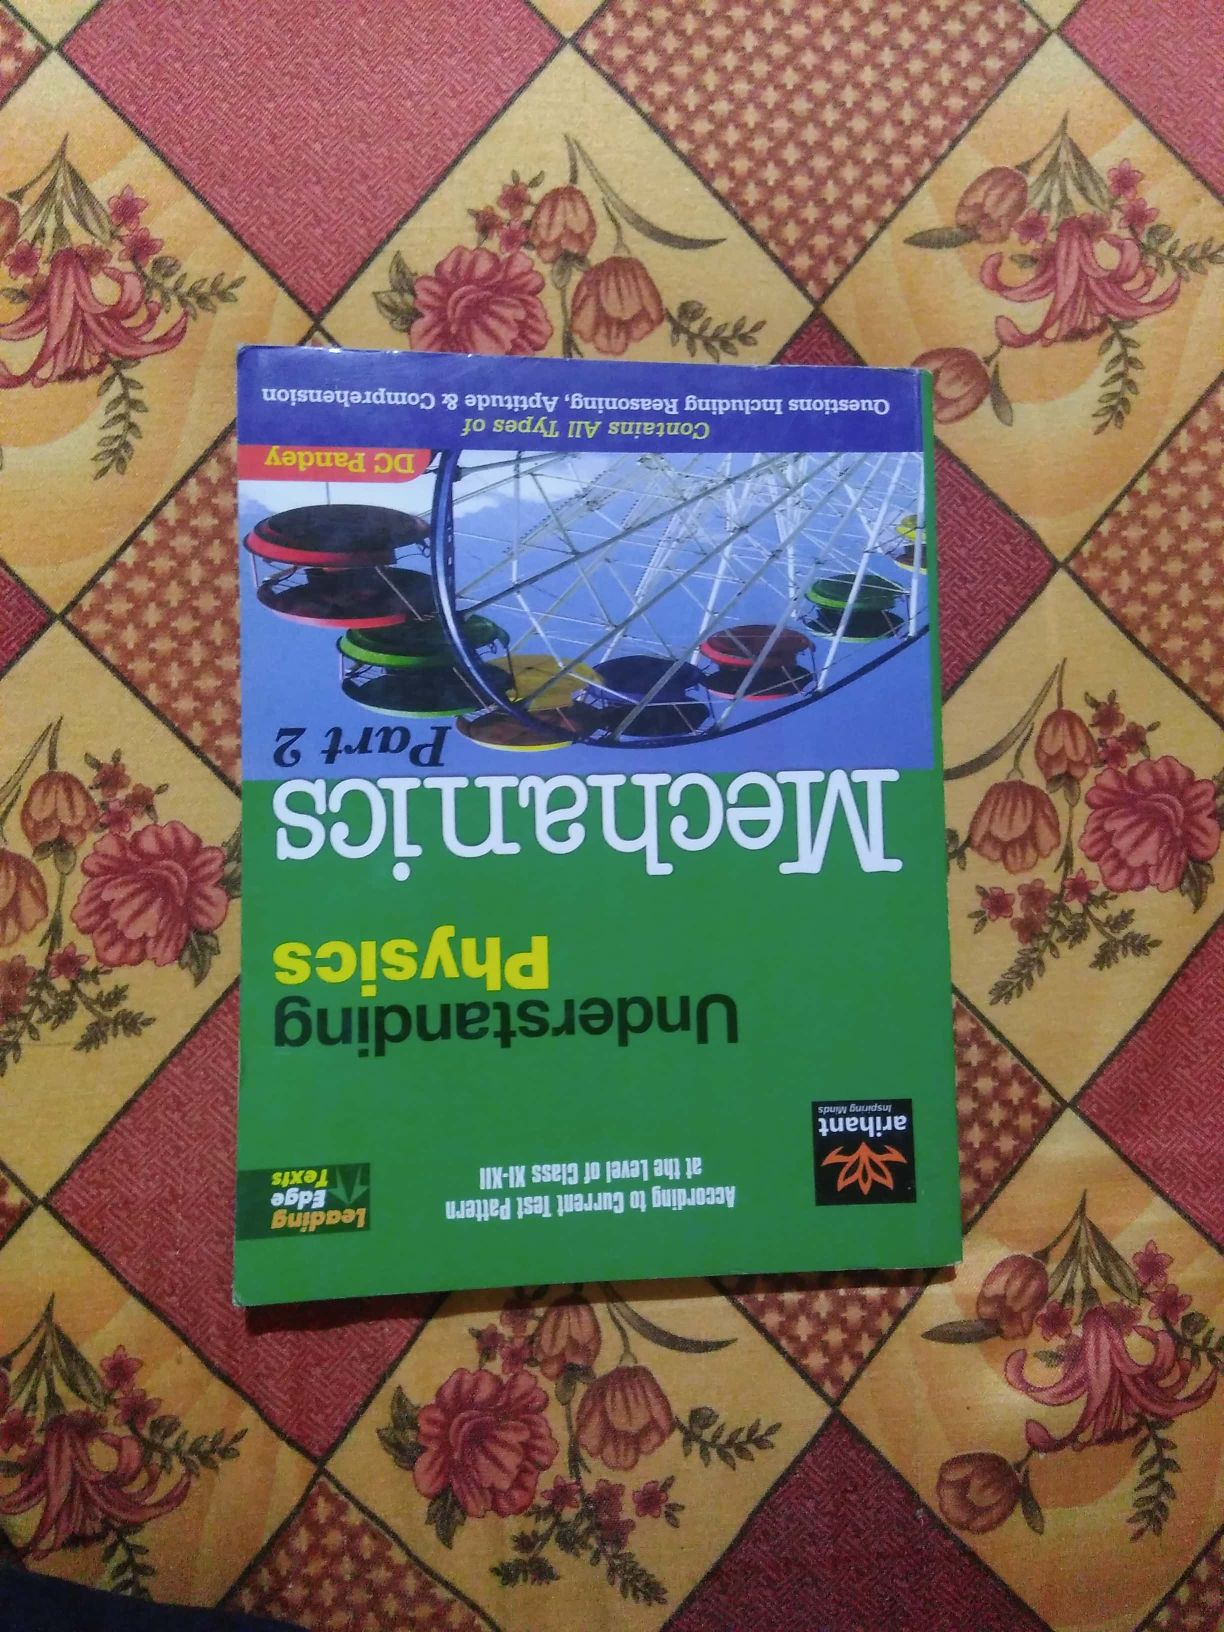mechanics: (213, 296, 1014, 1327)
